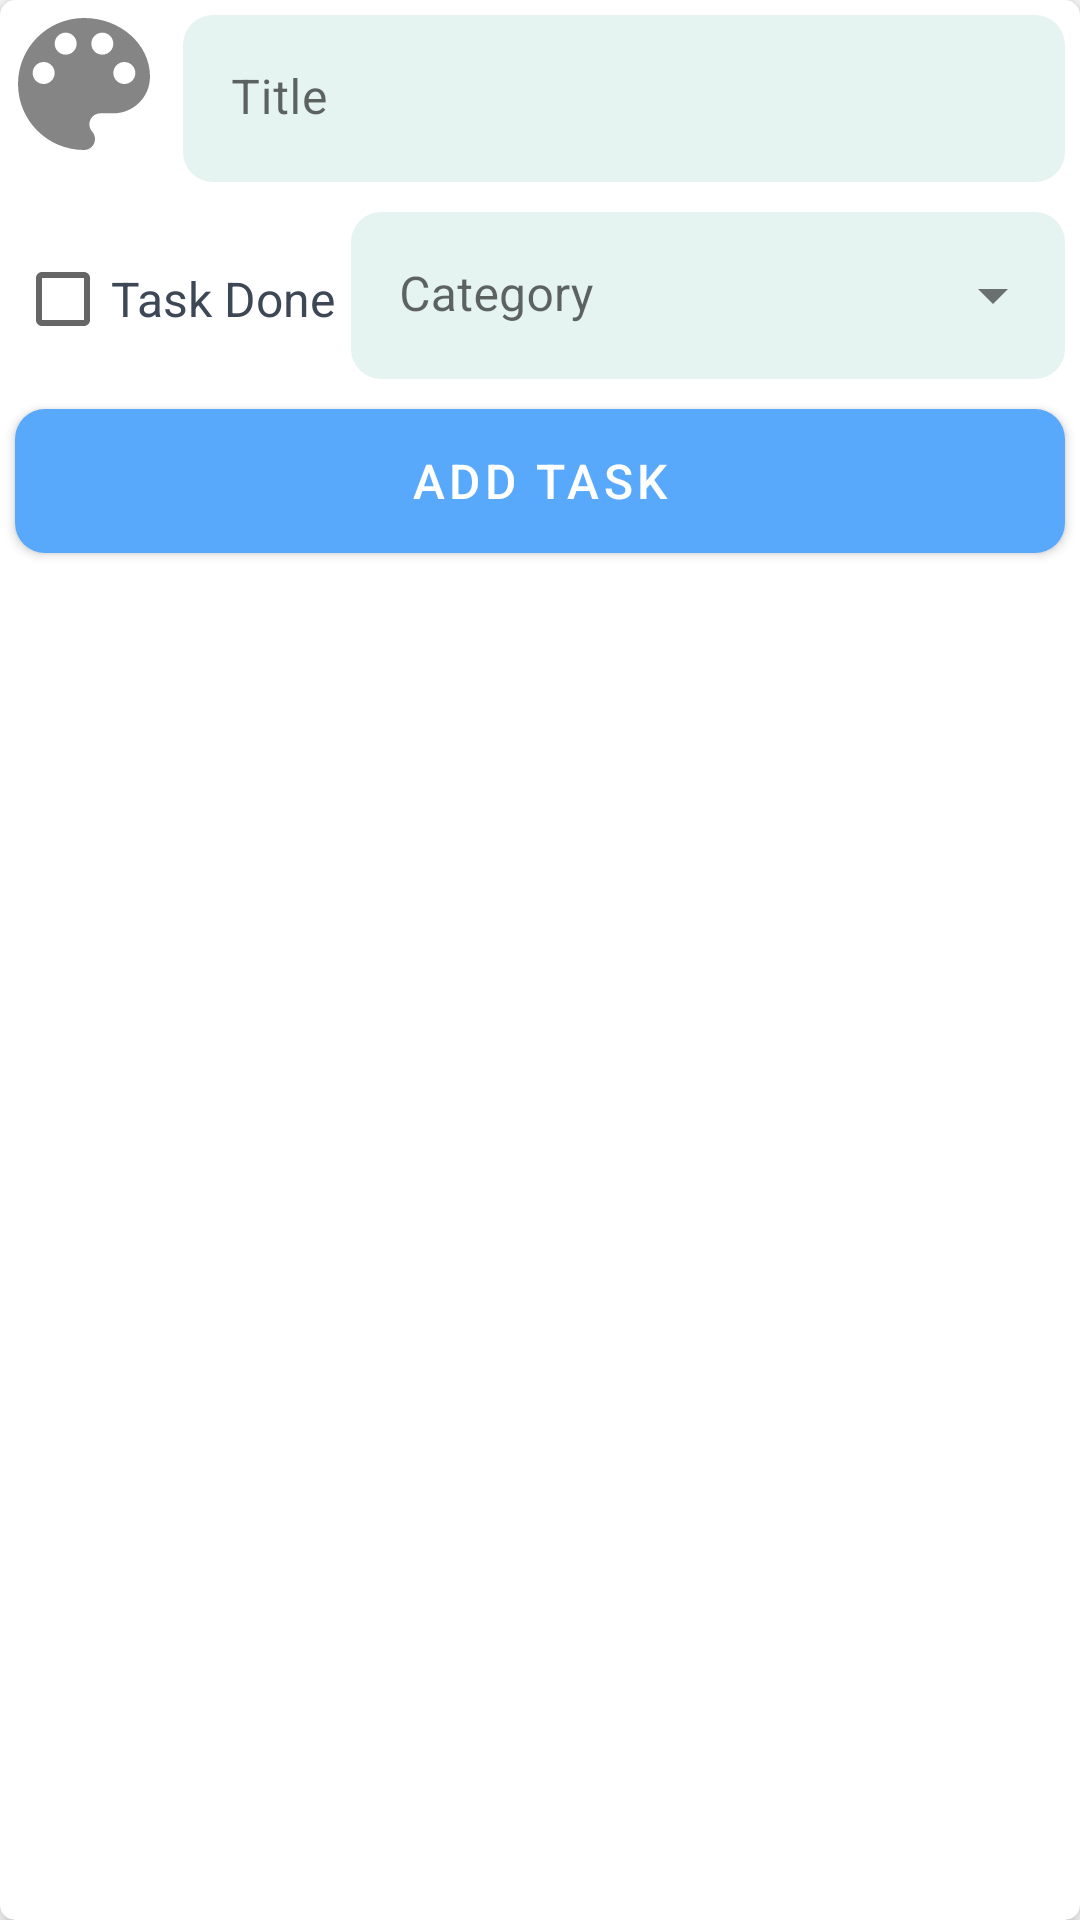

Icons on this 1080×1920 Android screen, each with the point to tap as (x=x, y=y):
palette: (x=84, y=84)
